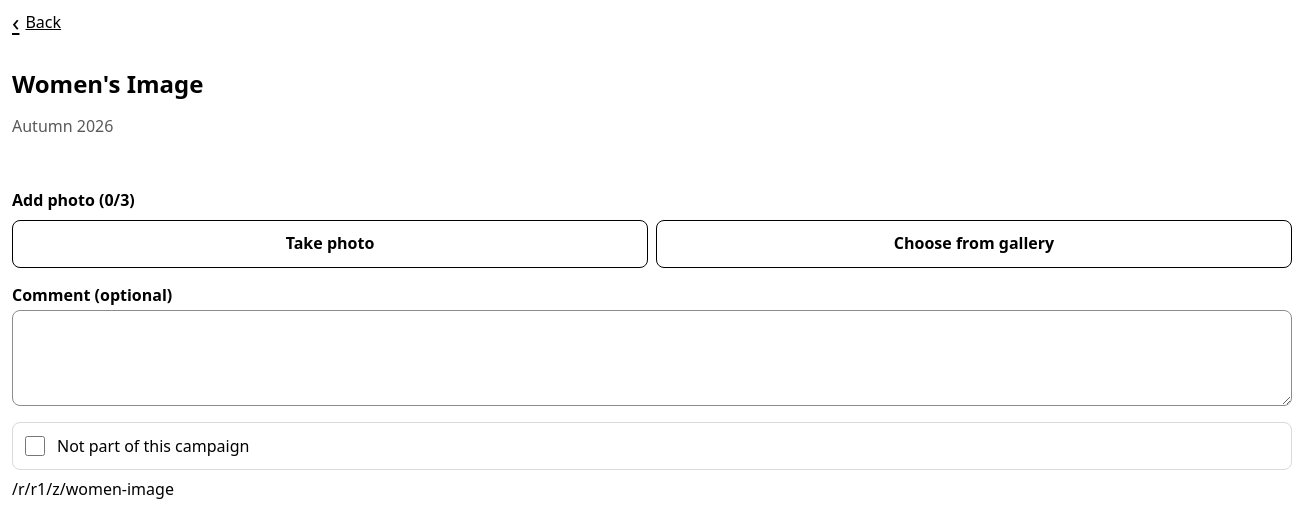
DraftZonePage: comment auto-save › shows Saving… while the save runs and nothing while the text is still being typed
This screenshot has width=1304, height=516.
In the text box labelled "Comment (optional)": (652, 358) 12,310 -> 1292,406, type "abc"
Wait 800 ms
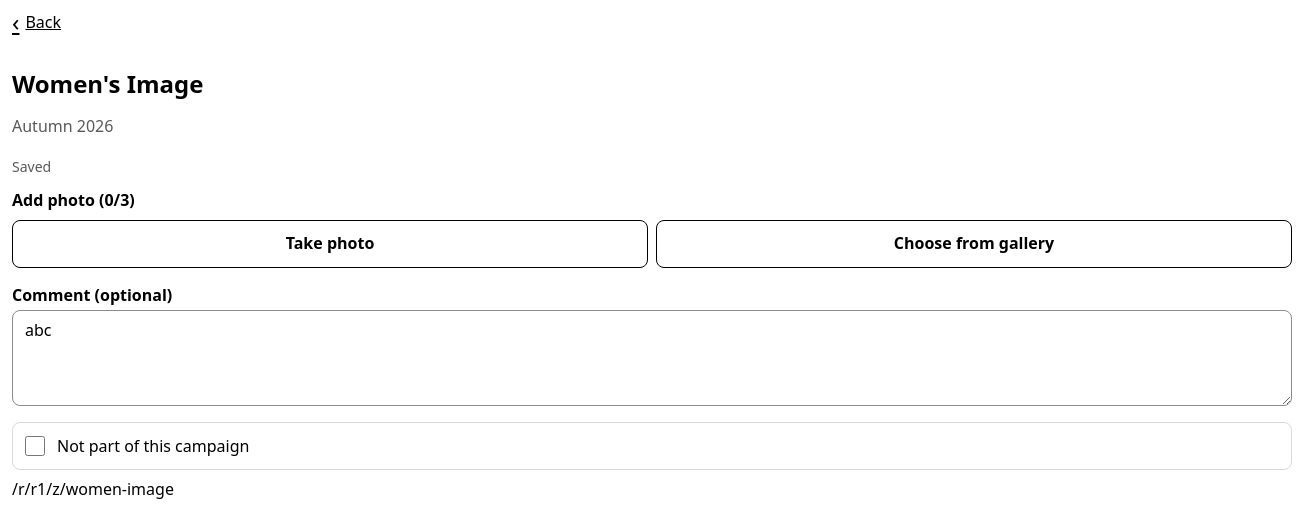
Check: the text "Saved" is shown, box 12,157 -> 51,176
